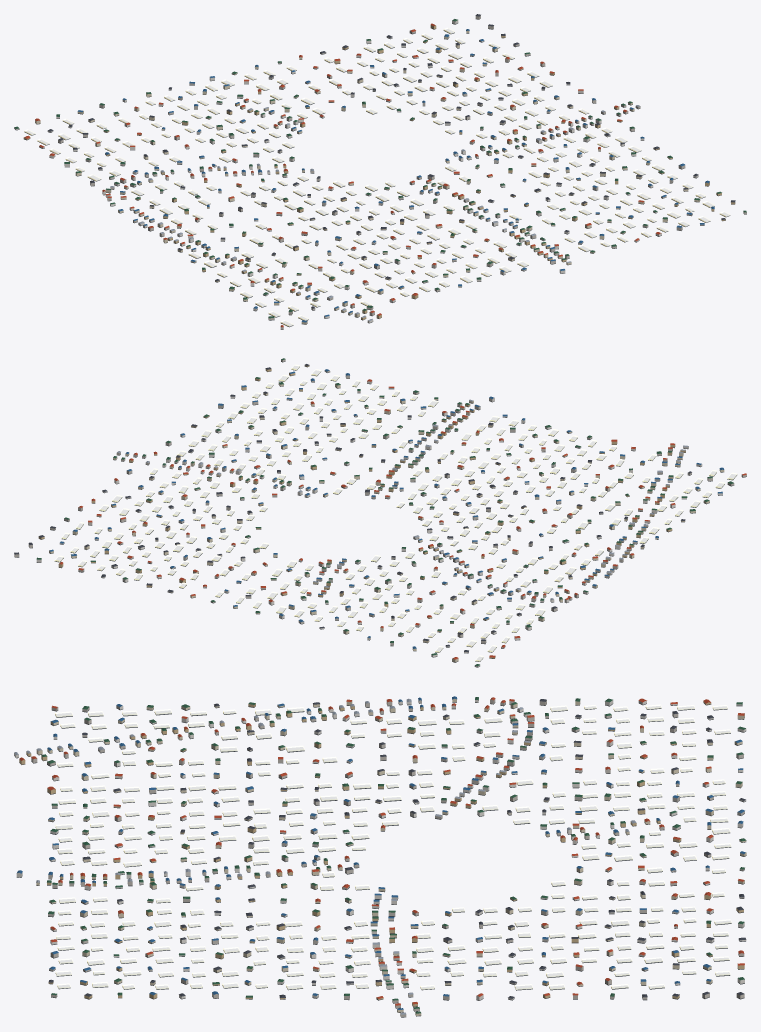
The model's file is buildings_T_W06_N03.glb.
3 views of the same model, one above another, from view 1: azimuth 30°, elevation 25°; view 2: azimuth 150°, elevation 25°; view 3: azimuth 270°, elevation 25° (orthographic). The views are drawn at different scales.
Visible parts, largest first — view 1: T_W06_N03_roofs_agri_greenhouse_arch, T_W06_N03_slope_seating_foundations, T_W06_N03_walls_wall_dalat_cream_stucco, T_W06_N03_walls_wall_pastel_sand_gray, T_W06_N03_walls_wall_modern_warm_white, T_W06_N03_walls_wall_french_ochre_villa, T_W06_N03_roofs_roof_pine_green_hip, T_W06_N03_roofs_roof_highland_blue_gable, T_W06_N03_roofs_roof_terracotta_gable, T_W06_N03_roofs_roof_slate_French_villa_hip; view 2: T_W06_N03_roofs_agri_greenhouse_arch, T_W06_N03_slope_seating_foundations, T_W06_N03_walls_wall_dalat_cream_stucco, T_W06_N03_walls_wall_pastel_sand_gray, T_W06_N03_walls_wall_modern_warm_white, T_W06_N03_walls_wall_french_ochre_villa, T_W06_N03_roofs_roof_pine_green_hip, T_W06_N03_roofs_roof_highland_blue_gable, T_W06_N03_roofs_roof_terracotta_gable, T_W06_N03_roofs_roof_slate_French_villa_hip; view 3: T_W06_N03_roofs_agri_greenhouse_arch, T_W06_N03_slope_seating_foundations, T_W06_N03_walls_wall_dalat_cream_stucco, T_W06_N03_walls_wall_pastel_sand_gray, T_W06_N03_walls_wall_modern_warm_white, T_W06_N03_roofs_roof_pine_green_hip, T_W06_N03_walls_wall_french_ochre_villa, T_W06_N03_roofs_roof_highland_blue_gable, T_W06_N03_roofs_roof_terracotta_gable, T_W06_N03_roofs_roof_slate_French_villa_hip, T_W06_N03_roofs_roof_zinc_silver_gable.
Part boxes in pixels (x1,y1,x2,y2): T_W06_N03_roofs_agri_greenhouse_arch: [24, 27, 730, 326]; T_W06_N03_slope_seating_foundations: [14, 18, 746, 329]; T_W06_N03_walls_wall_dalat_cream_stucco: [35, 30, 700, 324]; T_W06_N03_walls_wall_pastel_sand_gray: [58, 15, 746, 329]; T_W06_N03_walls_wall_modern_warm_white: [14, 20, 698, 322]; T_W06_N03_walls_wall_french_ochre_villa: [23, 25, 735, 319]; T_W06_N03_roofs_roof_pine_green_hip: [14, 19, 746, 318]; T_W06_N03_roofs_roof_highland_blue_gable: [77, 29, 714, 322]; T_W06_N03_roofs_roof_terracotta_gable: [24, 23, 661, 327]; T_W06_N03_roofs_roof_slate_French_villa_hip: [48, 14, 735, 308]; T_W06_N03_roofs_agri_greenhouse_arch: [54, 364, 737, 661]; T_W06_N03_slope_seating_foundations: [15, 361, 746, 667]; T_W06_N03_walls_wall_dalat_cream_stucco: [49, 383, 724, 662]; T_W06_N03_walls_wall_pastel_sand_gray: [14, 359, 746, 645]; T_W06_N03_walls_wall_modern_warm_white: [36, 380, 722, 667]; T_W06_N03_walls_wall_french_ochre_villa: [38, 365, 685, 658]; T_W06_N03_roofs_roof_pine_green_hip: [36, 358, 733, 666]; T_W06_N03_roofs_roof_highland_blue_gable: [49, 369, 724, 648]; T_W06_N03_roofs_roof_terracotta_gable: [59, 379, 746, 659]; T_W06_N03_roofs_roof_slate_French_villa_hip: [14, 364, 691, 652]; T_W06_N03_roofs_agri_greenhouse_arch: [55, 704, 731, 989]; T_W06_N03_slope_seating_foundations: [14, 700, 746, 1017]; T_W06_N03_walls_wall_dalat_cream_stucco: [36, 698, 746, 1015]; T_W06_N03_walls_wall_pastel_sand_gray: [31, 699, 744, 1017]; T_W06_N03_walls_wall_modern_warm_white: [14, 699, 746, 1000]; T_W06_N03_roofs_roof_pine_green_hip: [41, 697, 746, 1013]; T_W06_N03_walls_wall_french_ochre_villa: [19, 701, 744, 1006]; T_W06_N03_roofs_roof_highland_blue_gable: [17, 696, 745, 1009]; T_W06_N03_roofs_roof_terracotta_gable: [19, 697, 744, 1005]; T_W06_N03_roofs_roof_slate_French_villa_hip: [48, 699, 746, 998]; T_W06_N03_roofs_roof_zinc_silver_gable: [14, 698, 636, 1014].
Bounding box in the file's own units: 1862 × 35.41 × 1835.
